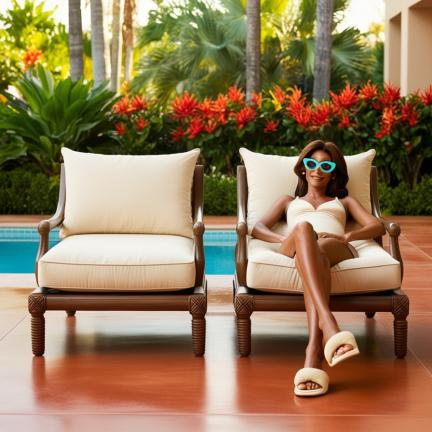empty chair: (29, 148, 207, 356)
guest on chair: (234, 140, 408, 397)
